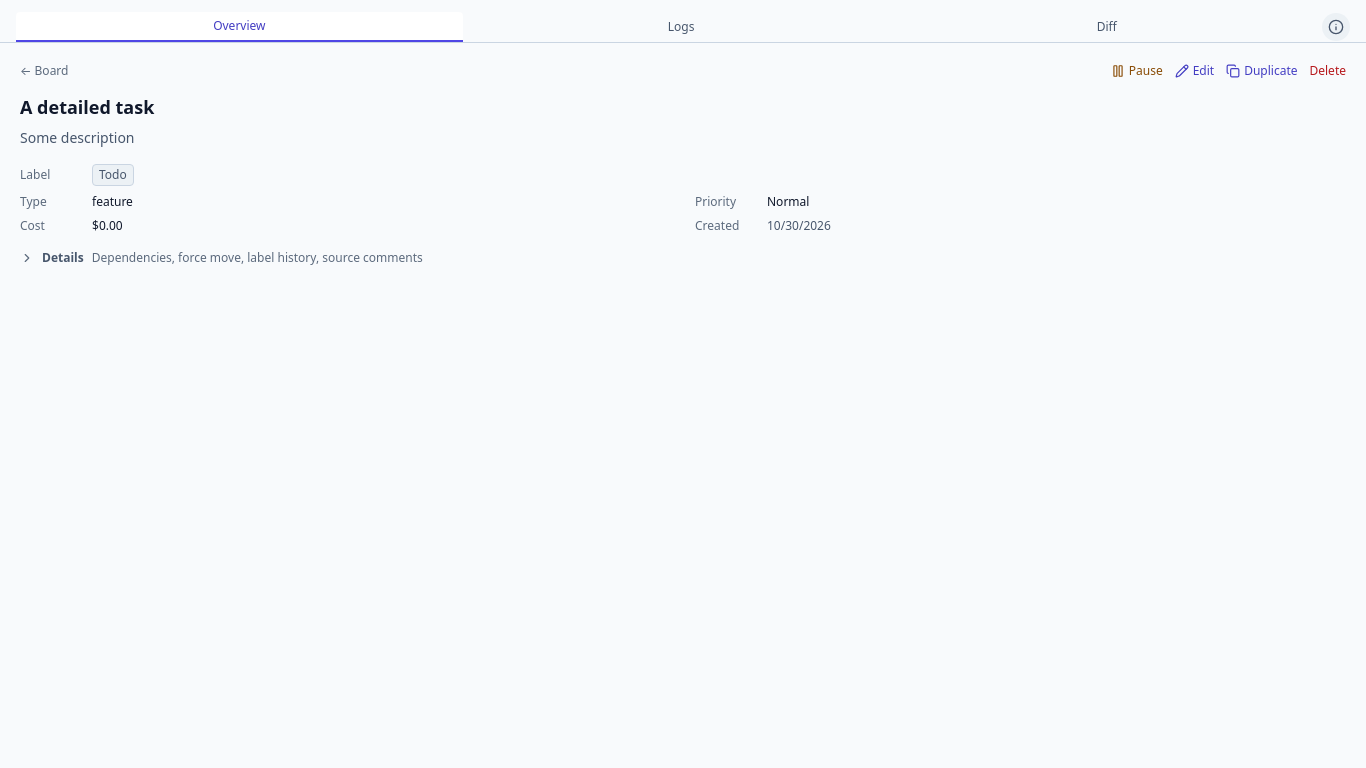
Scenario: TaskDetailPage tab switching › clicking the help button opens the About Task Detail modal
This screenshot has width=1366, height=768.
Expected: the heading "A detailed task" is shown, top-left (20, 95), bottom-right (154, 119)
Expected: the text "About Task Detail" is not shown
Click the button named "About this task" at (1336, 27), box top-left (1322, 13), bottom-right (1350, 41)
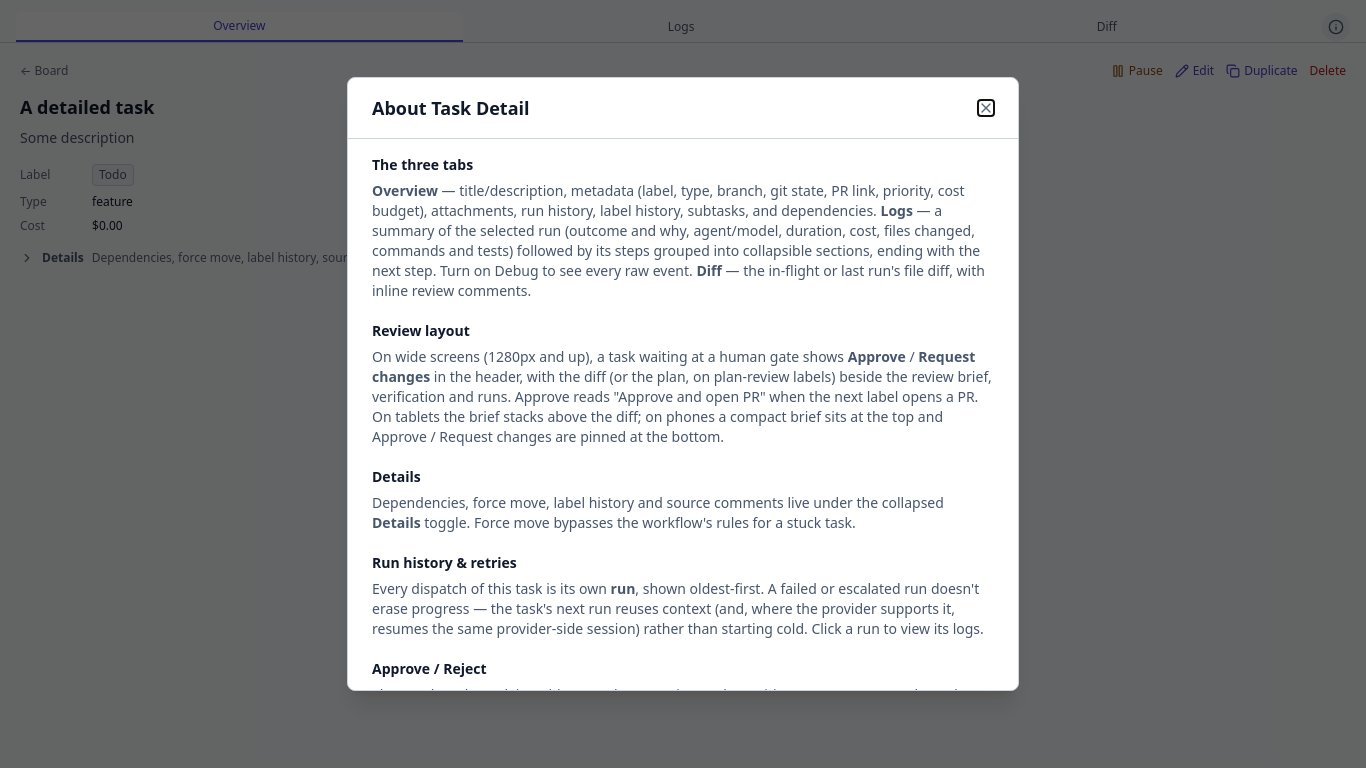
Now the heading "About Task Detail" is shown, box top-left (372, 94), bottom-right (530, 122)
